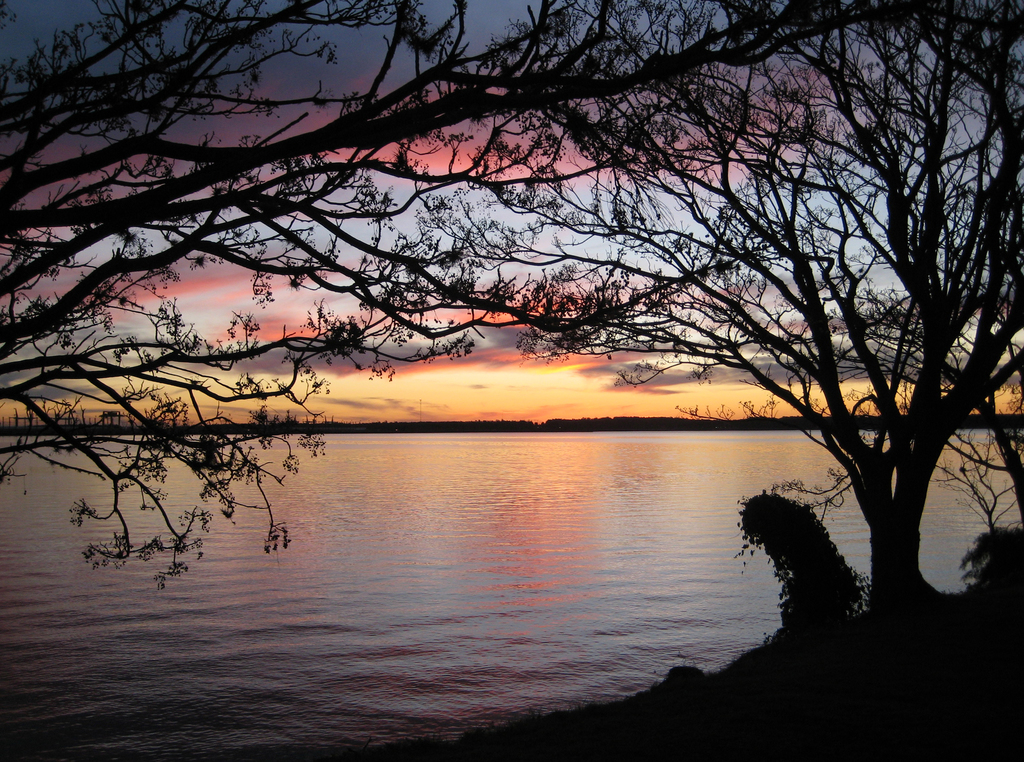Tree: (0, 0, 914, 591)
